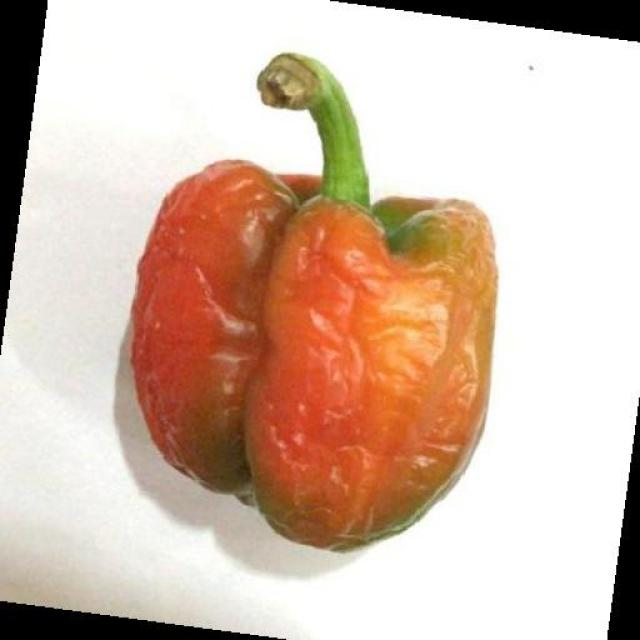Stale_Capsicum: (118, 44, 490, 568)
